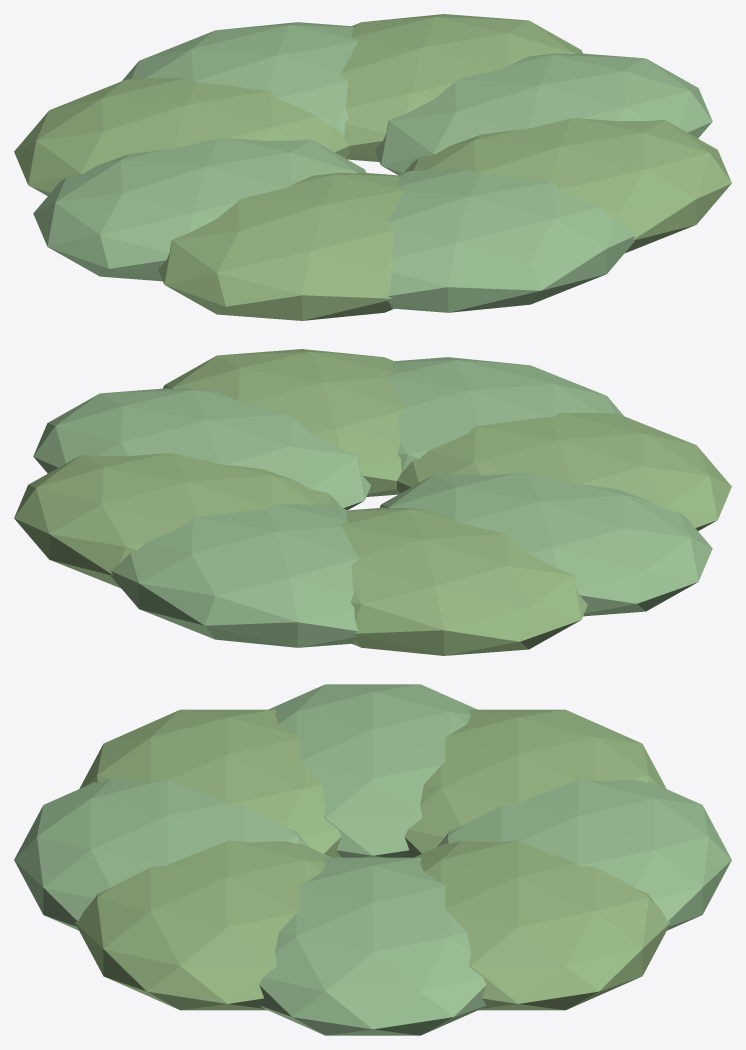
Rendered from moss_patch.glb.
3 views of the same model, one above another, from view 1: azimuth 30°, elevation 25°; view 2: azimuth 150°, elevation 25°; view 3: azimuth 270°, elevation 25° (orthographic). The views are drawn at different scales.
Parts seen in each view (by area): view 1: Moss_2, Moss_3, Moss_4, Moss_1, Moss_0, Moss_5, Moss_7, Moss_6; view 2: Moss_6, Moss_5, Moss_4, Moss_7, Moss_0, Moss_3, Moss_1, Moss_2; view 3: Moss_0, Moss_1, Moss_7, Moss_4, Moss_2, Moss_6, Moss_3, Moss_5.
Part boxes in pixels (left/top/right/bottom): Moss_2: left=386, top=169, right=634, bottom=312; Moss_3: left=158, top=172, right=406, bottom=320; Moss_4: left=33, top=137, right=366, bottom=281; Moss_1: left=404, top=118, right=731, bottom=253; Moss_0: left=374, top=53, right=712, bottom=174; Moss_5: left=14, top=78, right=348, bottom=195; Moss_7: left=339, top=14, right=582, bottom=161; Moss_6: left=122, top=22, right=359, bottom=136; Moss_6: left=111, top=504, right=359, bottom=647; Moss_5: left=339, top=507, right=587, bottom=655; Moss_4: left=379, top=472, right=712, bottom=616; Moss_7: left=14, top=453, right=341, bottom=588; Moss_0: left=33, top=388, right=371, bottom=509; Moss_3: left=397, top=413, right=731, bottom=530; Moss_1: left=163, top=349, right=406, bottom=496; Moss_2: left=386, top=357, right=623, bottom=471; Moss_0: left=259, top=857, right=486, bottom=1035; Moss_1: left=74, top=840, right=331, bottom=1010; Moss_7: left=414, top=840, right=671, bottom=1010; Moss_4: left=268, top=684, right=477, bottom=857; Moss_2: left=14, top=779, right=308, bottom=930; Moss_6: left=437, top=779, right=731, bottom=930; Moss_3: left=79, top=709, right=341, bottom=857; Moss_5: left=404, top=709, right=666, bottom=857.
Bounding box in the file's own units: 0.976 × 0.119 × 0.874.
